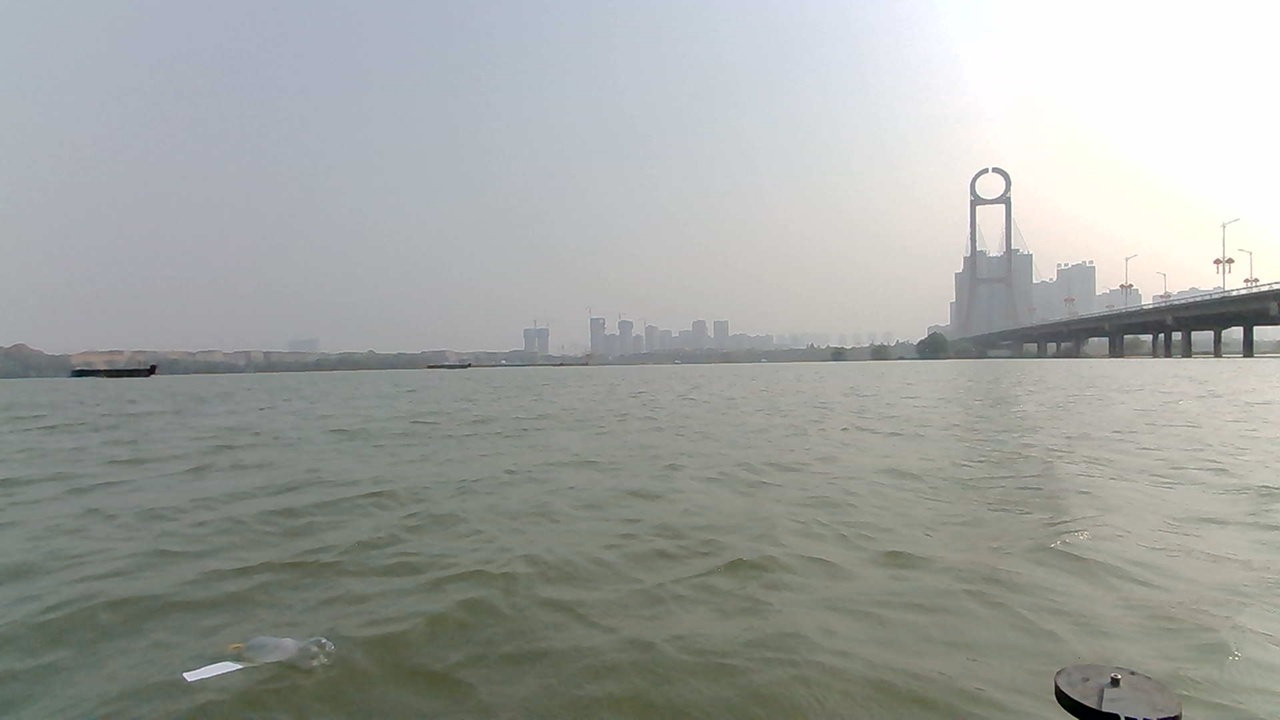bottle: (197, 626, 347, 694)
